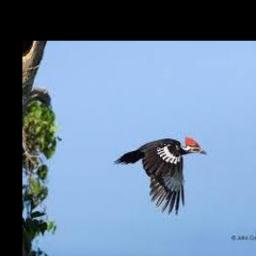Woodpecker: (113, 136, 207, 215)
